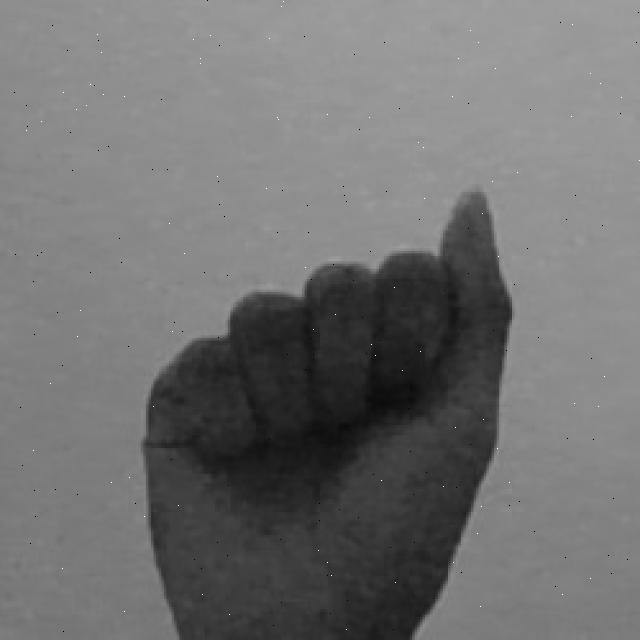A: (140, 181, 518, 640)
